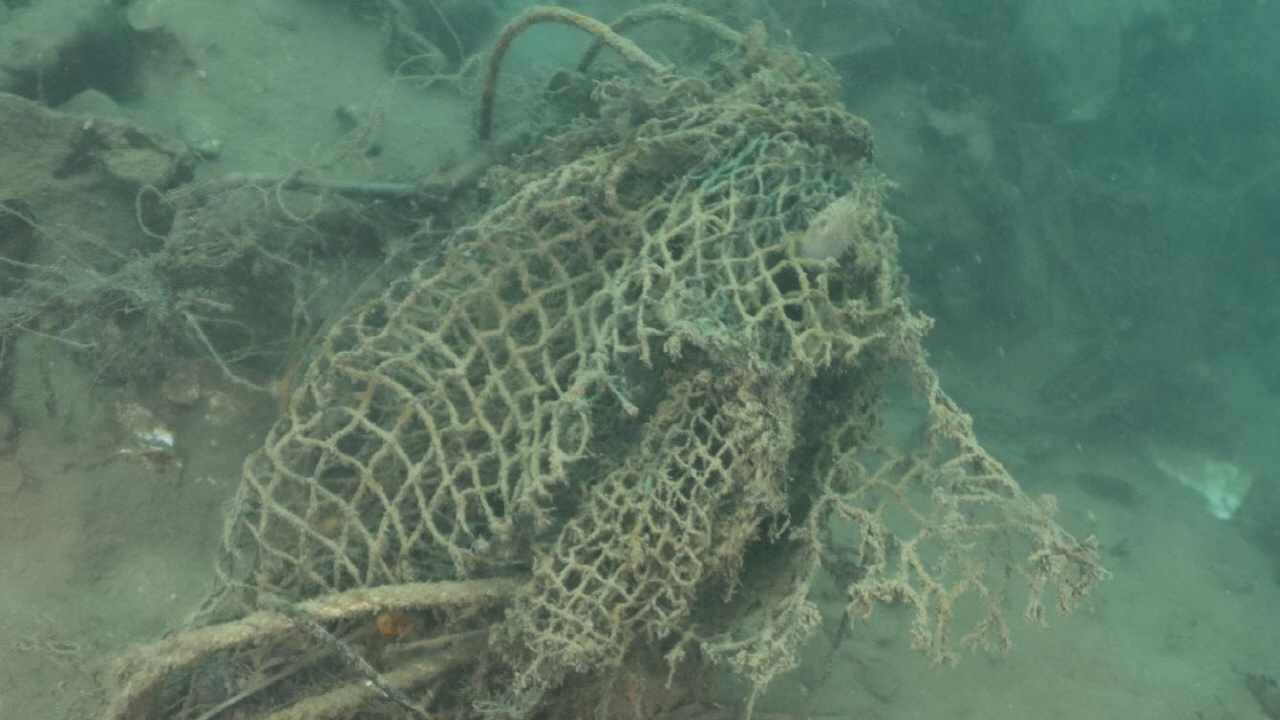fish net: (195, 76, 1092, 678)
